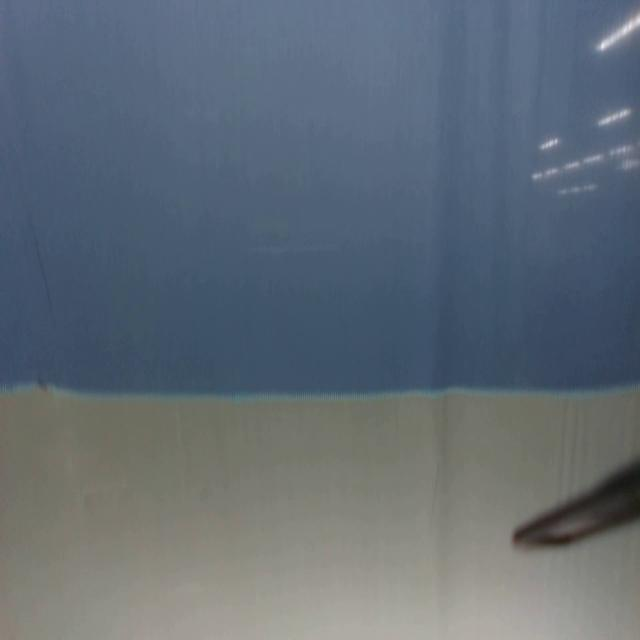crease: (26, 209, 54, 317)
